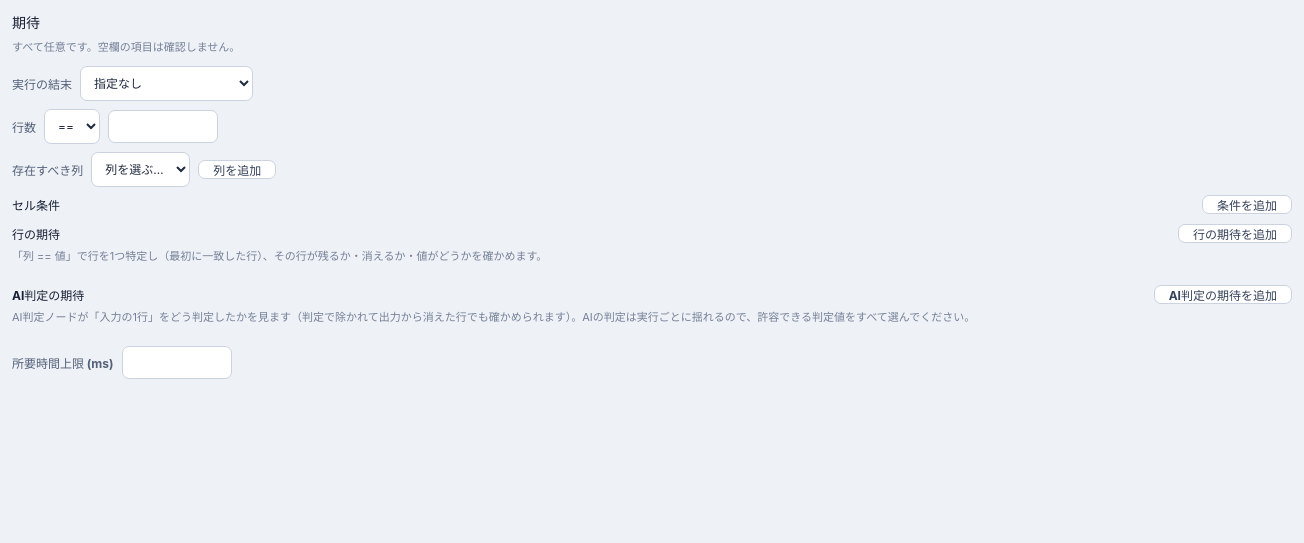
Test: ExpectationEditor: AI判定の期待 › 正常: はい/いいえのノードは yes / no / unclear を、分類のノードはカテゴリ名 + unclear を選択肢にする
Click the button "AI判定の期待を追加" at (1223, 294), box [1154,285,1292,304]
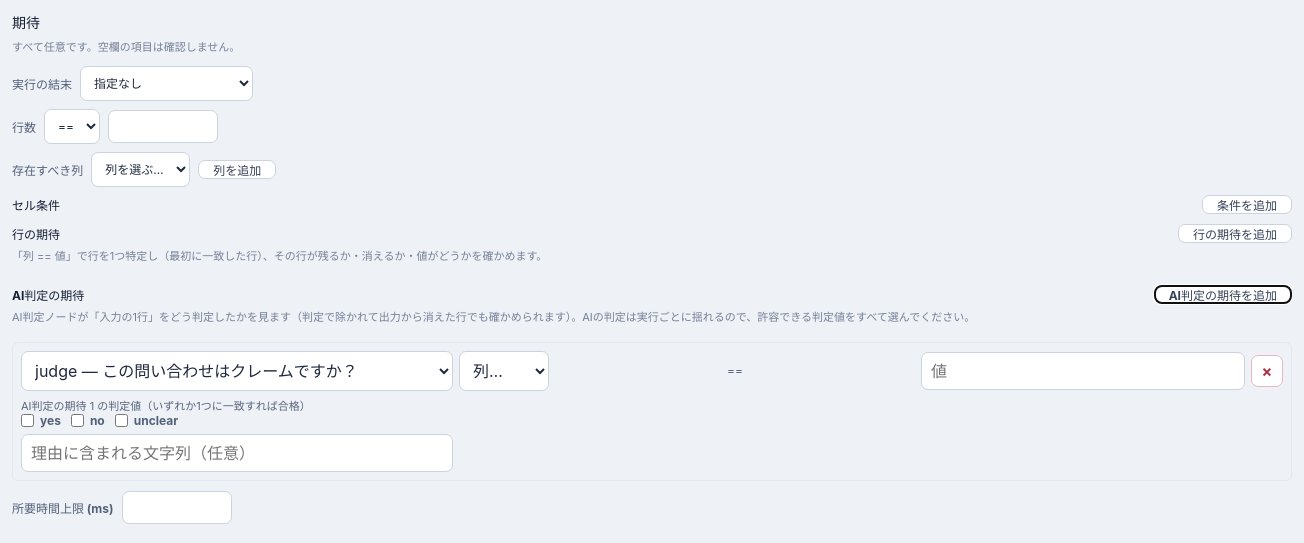
Check: the checkbox named "AI判定の期待 1 の判定値 yes" is shown, box [21,414,34,427]
Check: the checkbox named "AI判定の期待 1 の判定値 unclear" is shown, box [115,414,128,427]
Select "classify — 種類は？" in the dropdown named "AI判定の期待 1 のノード" at (237, 371), box [21,351,453,391]
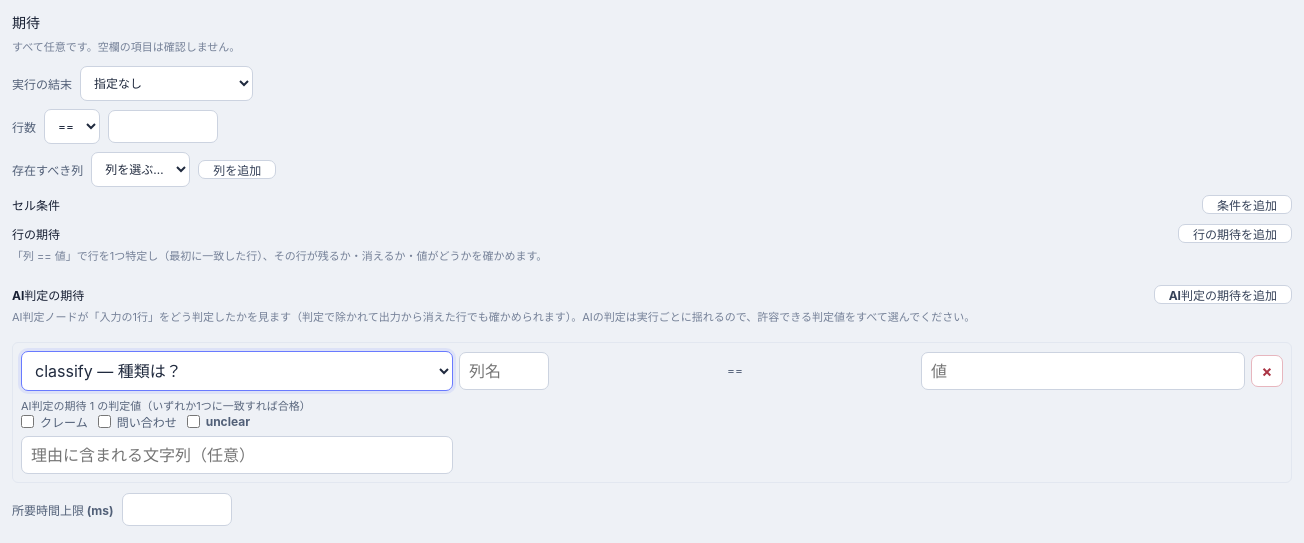
Check: the checkbox named "AI判定の期待 1 の判定値 クレーム" is shown, box [21,415,34,428]
Check: the checkbox named "AI判定の期待 1 の判定値 問い合わせ" is shown, box [98,415,111,428]
Check: the checkbox labelled "AI判定の期待 1 の判定値 yes" is gone
